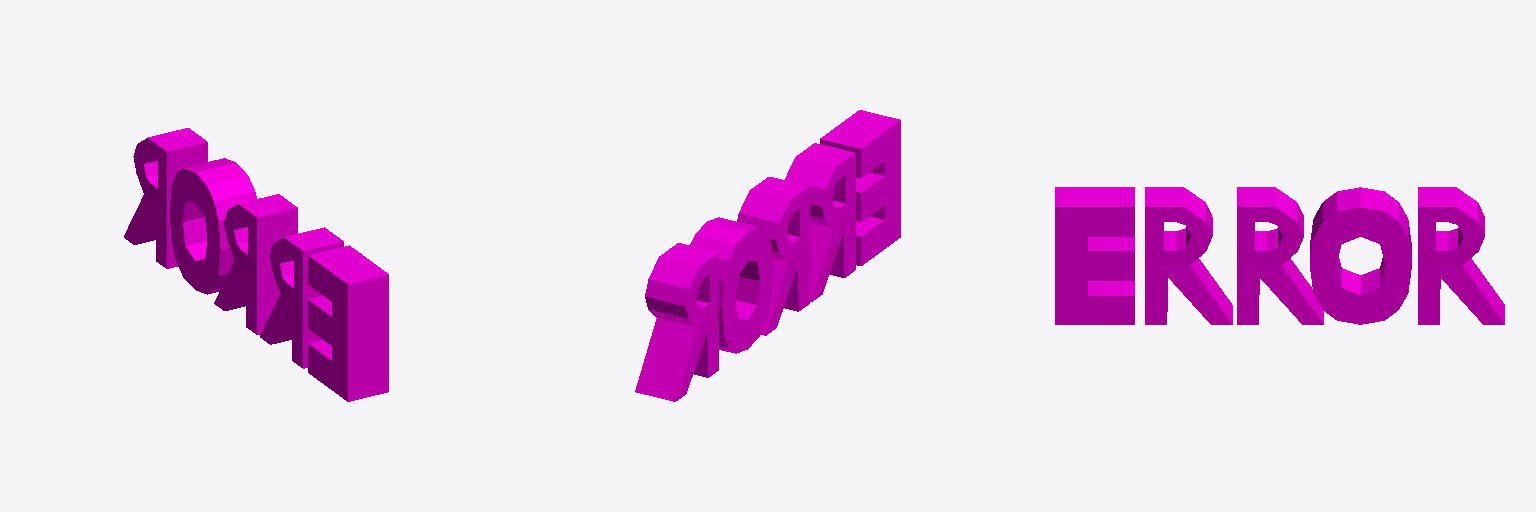
The model's file is ERROR.obj.
3 views of the same model, side by side, from view 1: azimuth 30°, elevation 25°; view 2: azimuth 150°, elevation 25°; view 3: azimuth 270°, elevation 25° (orthographic).
Parts seen in each view (by area): view 1: R4; view 2: R4; view 3: R4.
Part boxes in pixels (x1,y1,x2,y2): R4: (124, 128, 388, 401); R4: (635, 110, 900, 401); R4: (1055, 187, 1504, 324).
Bounding box in the file's own units: 0.3703 × 1 × 3.47.